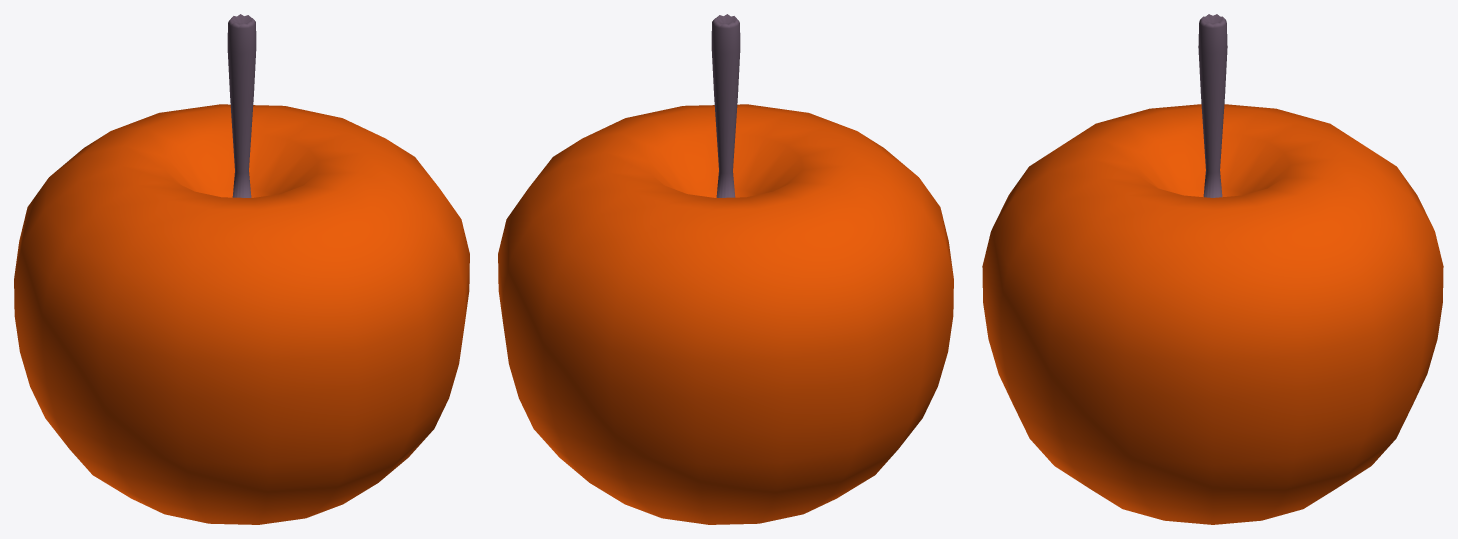
File: _ingo (1).fbx
3 renders of one model, left to right at view 1: azimuth 30°, elevation 25°; view 2: azimuth 150°, elevation 25°; view 3: azimuth 270°, elevation 25°, orthographic.
Visible parts, largest first — view 1: pSphere1; view 2: pSphere1; view 3: pSphere1.
Boxes of the visible parts, left/top/right/bottom form: pSphere1: left=14, top=14, right=469, bottom=524; pSphere1: left=498, top=14, right=953, bottom=524; pSphere1: left=982, top=14, right=1443, bottom=524.
Bounding box in the file's own units: 2.19 × 2.47 × 2.19.
